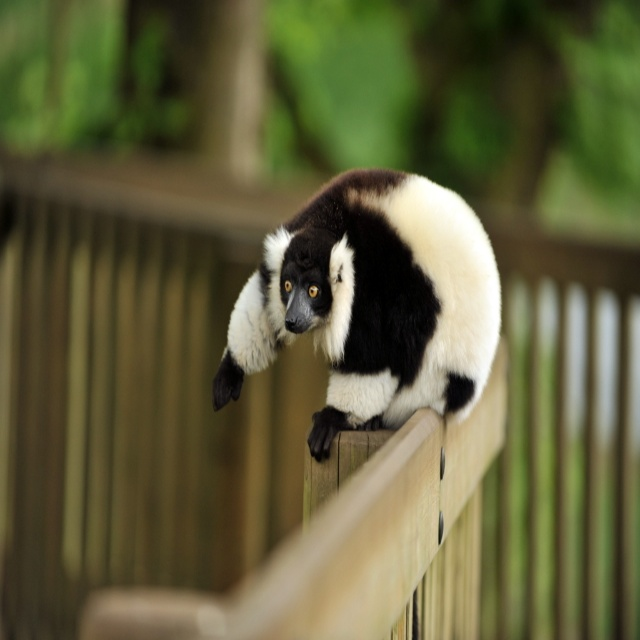Monkey: (212, 167, 502, 461)
